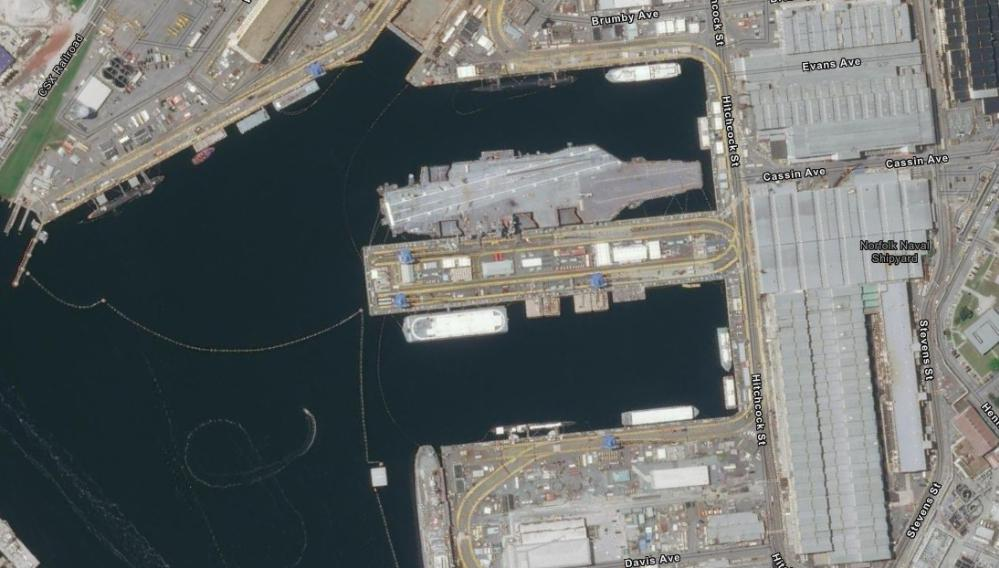carrier: (375, 140, 710, 240)
submarine: (83, 169, 168, 228), (470, 74, 573, 97), (486, 415, 584, 436)
